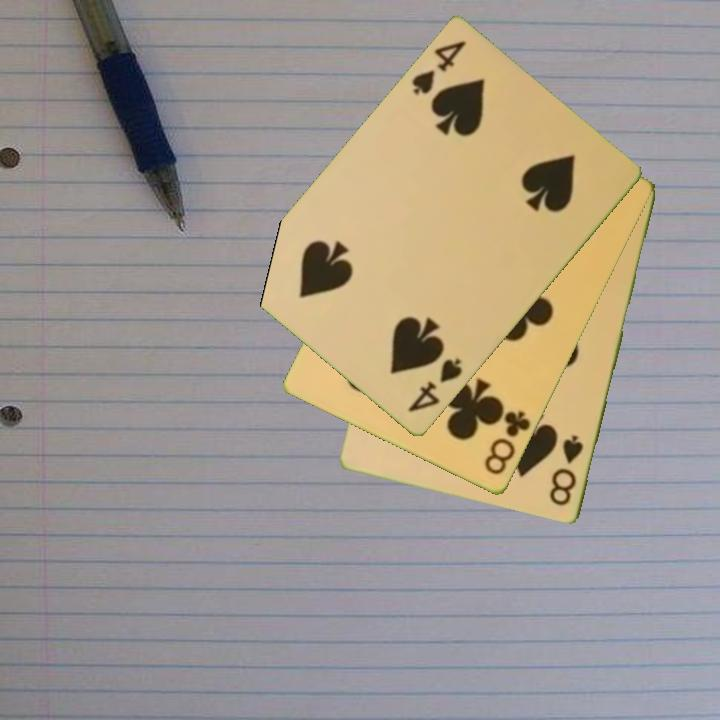4s: (404, 355, 465, 416), (408, 38, 469, 99)
8c: (481, 408, 534, 479)
8s: (546, 432, 587, 510)
